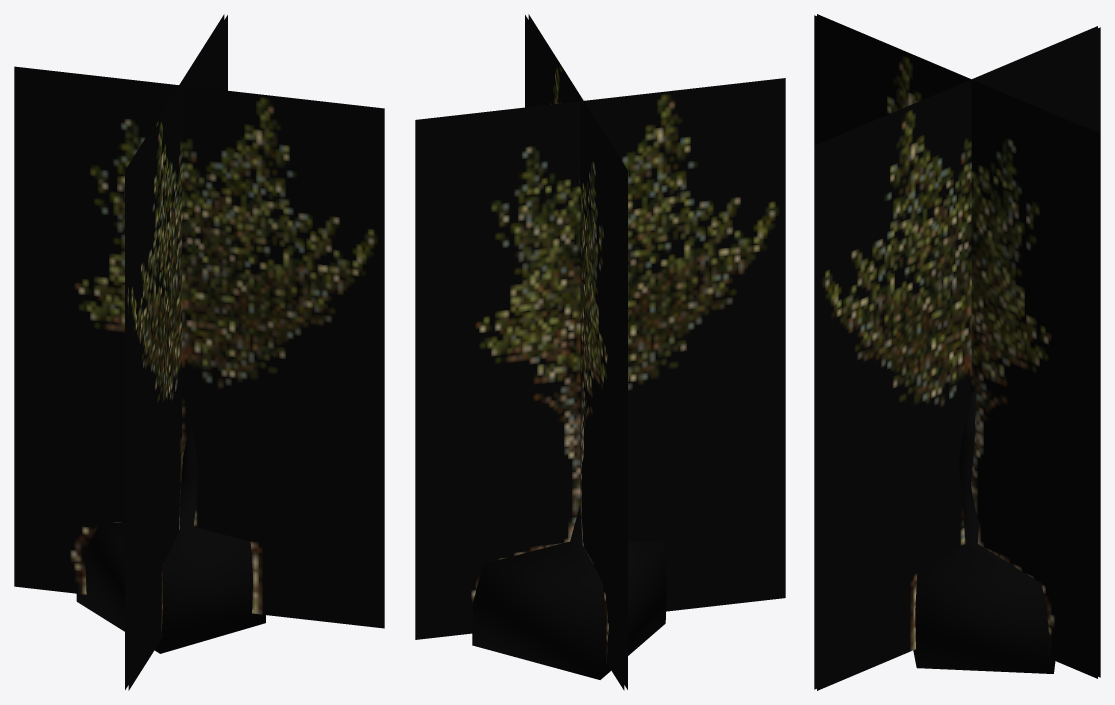
Rendered from tree048.fbx.
3 renders of one model, left to right at view 1: azimuth 30°, elevation 25°; view 2: azimuth 150°, elevation 25°; view 3: azimuth 270°, elevation 25°, orthographic. The views are drawn at different scales.
Parts seen in each view (by area): view 1: tree048, tree048_trunk; view 2: tree048, tree048_trunk; view 3: tree048, tree048_trunk.
Part boxes in pixels (box(x1,y1,x2,y2)): tree048: box(14, 14, 384, 690); tree048_trunk: box(76, 423, 265, 653); tree048: box(415, 14, 785, 690); tree048_trunk: box(472, 505, 666, 679); tree048: box(814, 14, 1100, 690); tree048_trunk: box(913, 383, 1055, 673).
Bounding box in the file's own units: 204 × 399 × 186.
1 material, 1 textured.
